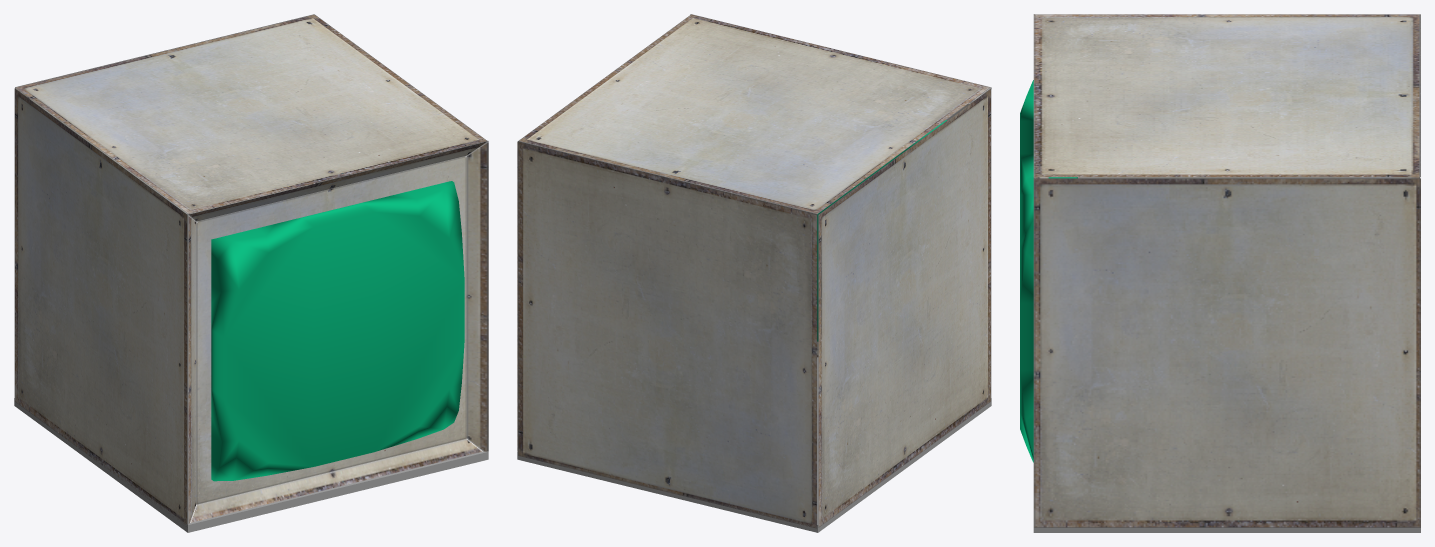
Rendered from BlockDropper.fbx.
3 renders of one model, left to right at view 1: azimuth 30°, elevation 25°; view 2: azimuth 150°, elevation 25°; view 3: azimuth 270°, elevation 25°, orthographic. The views are drawn at different scales.
Parts seen in each view (by area): view 1: polySurface1; view 2: polySurface1; view 3: polySurface1.
Part boxes in pixels (left/top/right/bottom): polySurface1: left=14, top=14, right=488, bottom=532; polySurface1: left=517, top=14, right=991, bottom=532; polySurface1: left=1020, top=14, right=1420, bottom=532.
Size of the model in its own units: 12 by 12.15 by 12.42.
3 materials, 1 textured.
